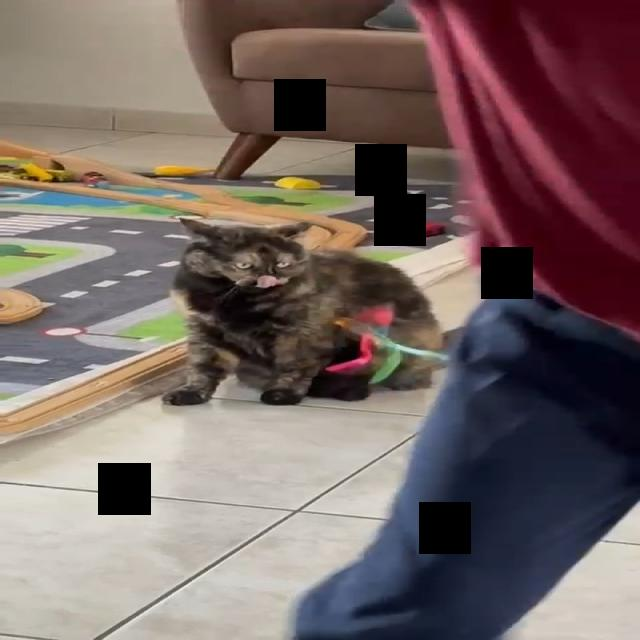authorized: (160, 217, 444, 406)
